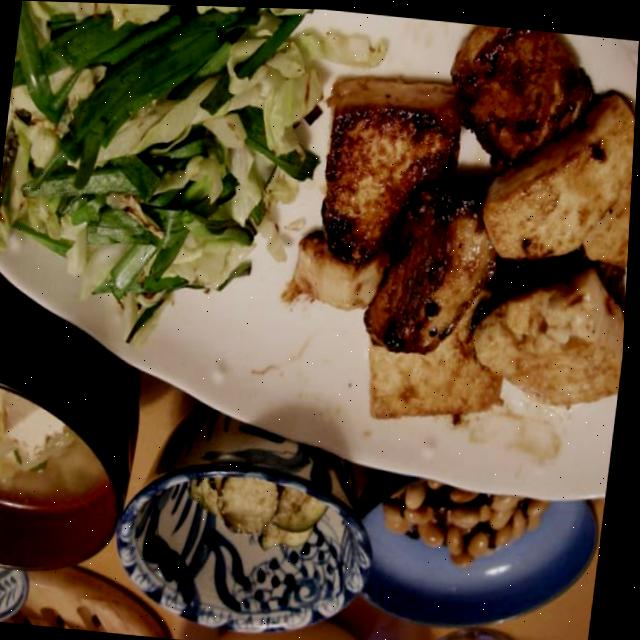熟制海鲜: (283, 7, 640, 445)
